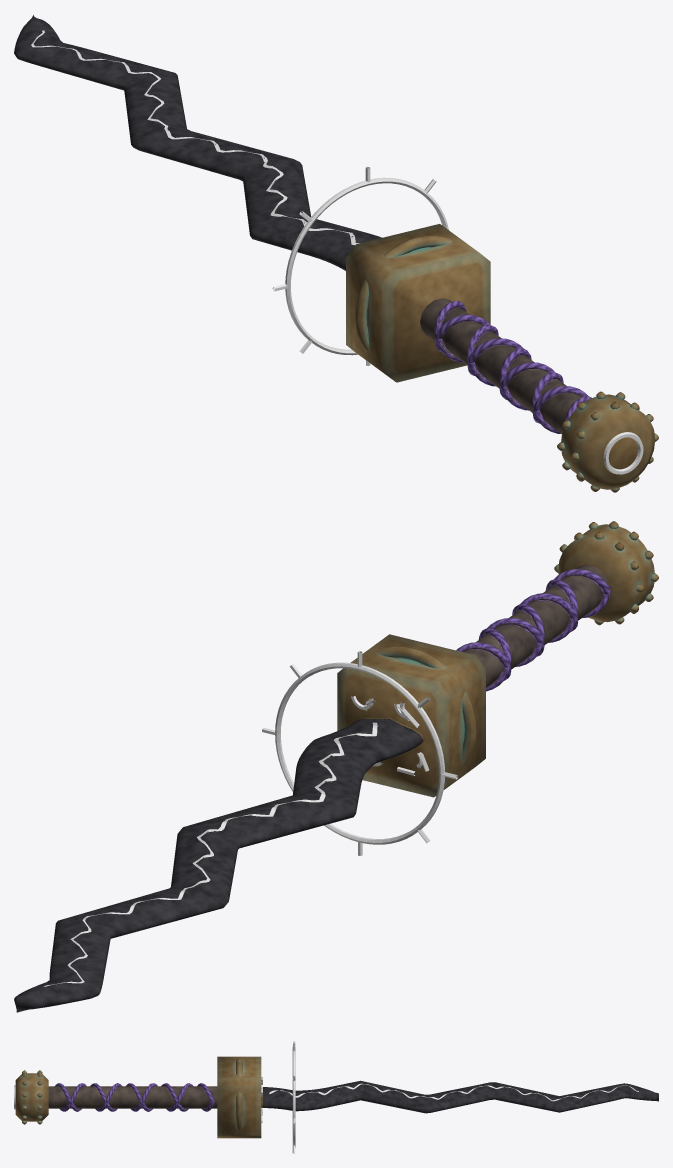
File: Sword7.fbx
3 renders of one model, top to bottom at view 1: azimuth 30°, elevation 25°; view 2: azimuth 150°, elevation 25°; view 3: azimuth 270°, elevation 25°, orthographic. The views are drawn at different scales.
Visible parts, largest first — view 1: Sword7_Body, Sword7_Glow_643cff; view 2: Sword7_Body, Sword7_Glow_643cff; view 3: Sword7_Body, Sword7_Glow_643cff.
Part boxes in pixels (bbox=[...]): Sword7_Body: bbox=[14, 15, 658, 492]; Sword7_Glow_643cff: bbox=[31, 30, 643, 474]; Sword7_Body: bbox=[14, 521, 658, 1012]; Sword7_Glow_643cff: bbox=[43, 651, 457, 986]; Sword7_Body: bbox=[15, 1056, 658, 1138]; Sword7_Glow_643cff: bbox=[14, 1041, 638, 1153].
Bounding box in the file's own units: 1.09 × 1.09 × 5.89.
2 materials, 1 textured.
